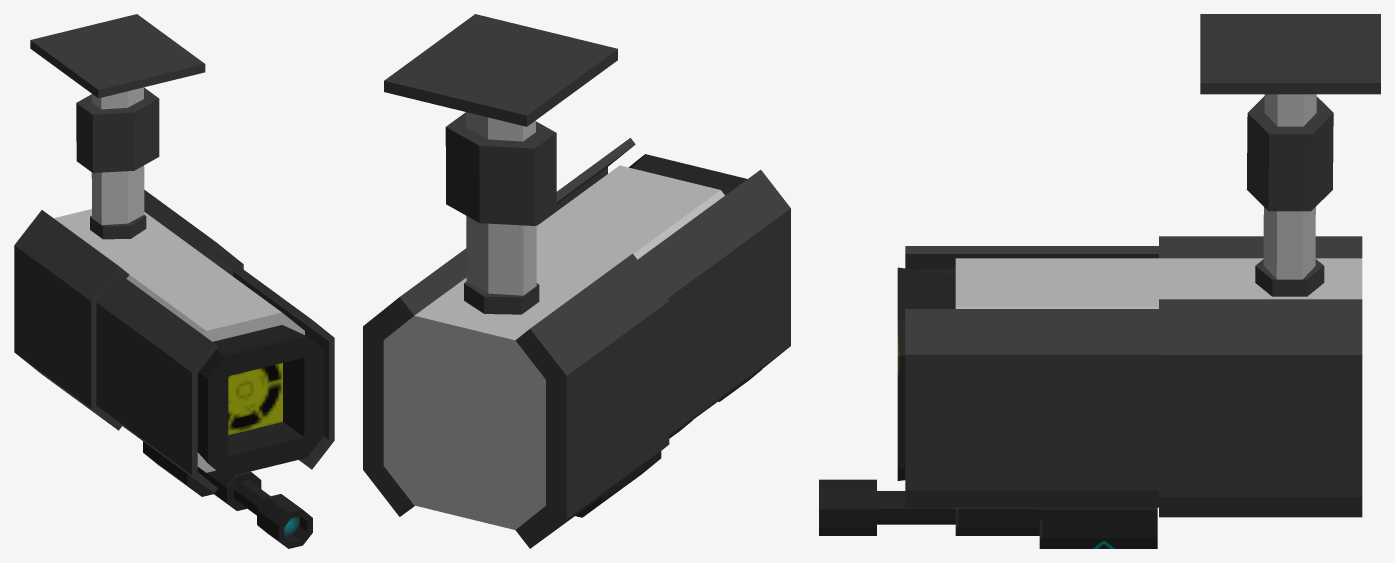
Rendered from Camera_Ceiling.fbx.
The picture shows the model from 3 angles, left to right: view 1: azimuth 30°, elevation 25°; view 2: azimuth 150°, elevation 25°; view 3: azimuth 270°, elevation 25°; orthographic projection. The views are drawn at different scales.
Parts seen in each view (by area): view 1: polySurface24; view 2: polySurface24; view 3: polySurface24.
Boxes of the visible parts, x1,y1,x2,y2 form: polySurface24: [14, 14, 334, 548]; polySurface24: [363, 14, 790, 548]; polySurface24: [819, 14, 1380, 548].
Size of the model in its own units: 98.75 by 231 by 238.
Materials: 1 (1 with a texture image).
